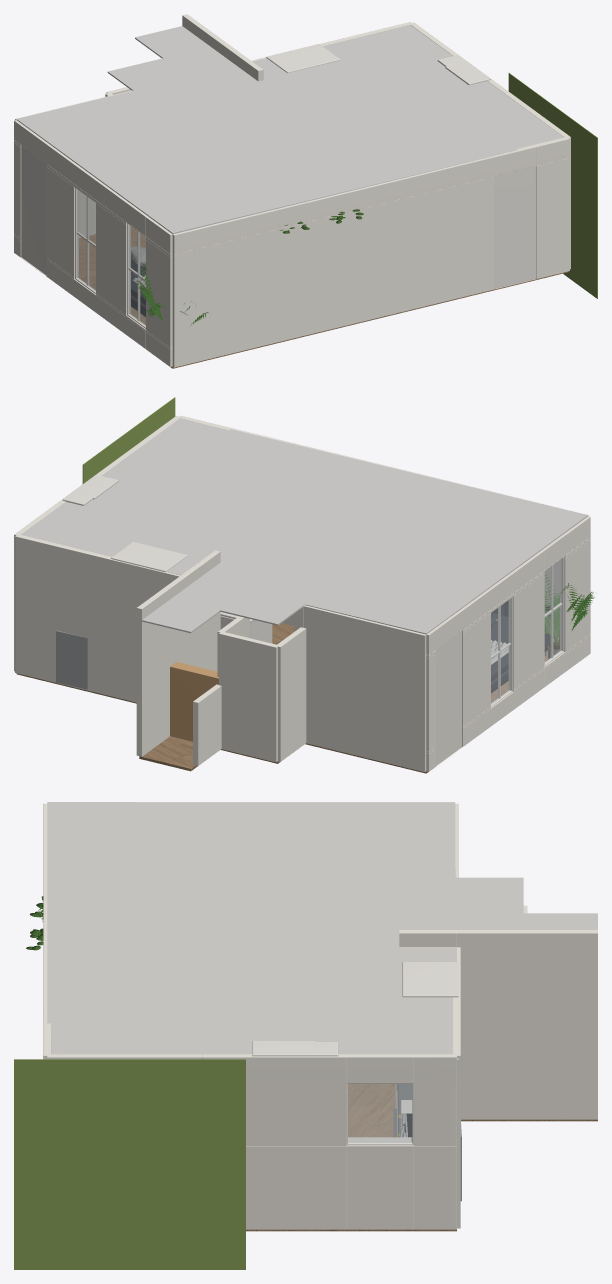
The picture shows the model from 3 angles, top to bottom: view 1: azimuth 30°, elevation 25°; view 2: azimuth 150°, elevation 25°; view 3: azimuth 270°, elevation 25°; orthographic projection. The views are drawn at different scales.
Visible parts, largest first — view 1: source-measured-main-ceiling, wall_8_segment.006, wall_8_segment.007, inferred_outdoor_brightness, door_panel.002, wall_8_segment.001, door_panel, wall_0_segment.015, wall_0_segment.027, wall_0_segment.003, glass.001, measured_floor_polygon (+16 smaller); view 2: source-measured-main-ceiling, wall_11_segment, wall_1_segment, wall_4_segment, wall_3_segment, wall_9_segment, wall_0_segment.015, door_panel, wall_0_segment.027, wall_0_segment.003, home-downstairs__stairs_01__step.006, measured_floor_polygon (+18 smaller); view 3: source-measured-main-ceiling, inferred_outdoor_brightness, wall_3_segment, wall_7_segment.007, wall_7_segment.008, wall_7_segment.004, glass.002, wall_7_segment, measured_floor_polygon, wall_7_segment.010, wall_7_segment.001, home-downstairs__storage_17__countertop (+7 smaller).
Boxes of the visible parts, <box> form: source-measured-main-ceiling: <box>16,25,563,233</box>; wall_8_segment.006: <box>172,176,493,367</box>; wall_8_segment.007: <box>172,156,493,254</box>; inferred_outdoor_brightness: <box>508,73,597,298</box>; door_panel.002: <box>494,166,535,288</box>; wall_8_segment.001: <box>536,158,569,278</box>; door_panel: <box>21,145,46,275</box>; wall_0_segment.015: <box>96,203,130,315</box>; wall_0_segment.027: <box>46,167,78,277</box>; wall_0_segment.003: <box>146,240,172,347</box>; glass.001: <box>77,189,95,291</box>; measured_floor_polygon: <box>79,226,568,368</box>; source-measured-main-ceiling: <box>21,418,587,634</box>; wall_11_segment: <box>294,605,426,771</box>; wall_1_segment: <box>15,535,180,702</box>; wall_4_segment: <box>219,632,278,762</box>; wall_3_segment: <box>136,567,197,756</box>; wall_9_segment: <box>277,627,306,761</box>; wall_0_segment.015: <box>508,574,544,689</box>; door_panel: <box>436,631,461,765</box>; wall_0_segment.027: <box>462,613,490,726</box>; wall_0_segment.003: <box>560,540,590,651</box>; home-downstairs__stairs_01__step.006: <box>170,662,218,741</box>; measured_floor_polygon: <box>16,623,547,773</box>; source-measured-main-ceiling: <box>47,802,597,1054</box>; inferred_outdoor_brightness: <box>14,1059,245,1269</box>; wall_3_segment: <box>457,930,597,1119</box>; wall_7_segment.007: <box>246,1146,346,1229</box>; wall_7_segment.008: <box>246,1083,346,1145</box>; wall_7_segment.004: <box>346,1145,413,1229</box>; glass.002: <box>348,1084,411,1142</box>; wall_7_segment: <box>414,1146,456,1229</box>; measured_floor_polygon: <box>246,1084,597,1231</box>; wall_7_segment.010: <box>202,1054,346,1081</box>; wall_7_segment.001: <box>414,1083,456,1145</box>; home-downstairs__storage_17__countertop: <box>402,962,458,997</box>.
Bounding box in the file's own units: 8.43 × 3.11 × 7.55.
Materials: 51 (1 with a texture image).
